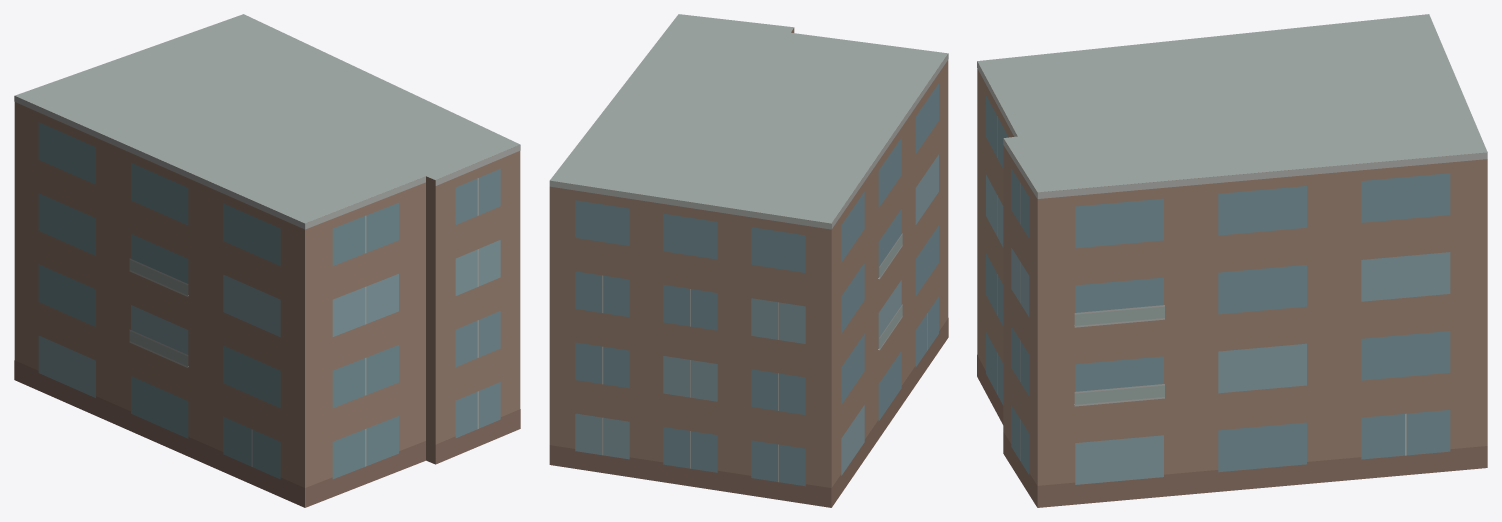
The model's file is survey-upis-32812553.glb.
The picture shows the model from 3 angles, left to right: view 1: azimuth 30°, elevation 25°; view 2: azimuth 150°, elevation 25°; view 3: azimuth 270°, elevation 25°; orthographic projection. The views are drawn at different scales.
Visible parts, largest first — view 1: survey-upis-32812553.tmp; view 2: survey-upis-32812553.tmp; view 3: survey-upis-32812553.tmp.
Part boxes in pixels (x1=…): survey-upis-32812553.tmp: x1=14, y1=14, x2=520, y2=507; survey-upis-32812553.tmp: x1=549, y1=14, x2=948, y2=507; survey-upis-32812553.tmp: x1=977, y1=14, x2=1487, y2=507.
Bounding box in the file's own units: 13.95 × 11.5 × 16.88.
